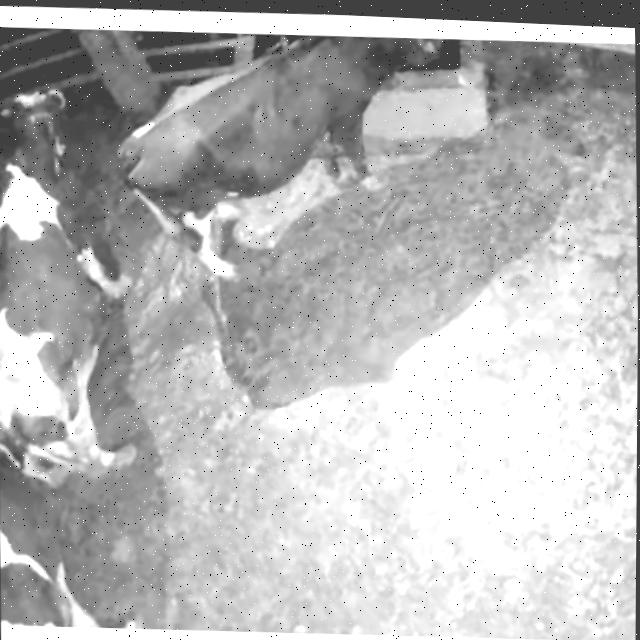drink: (292, 32, 470, 122)
